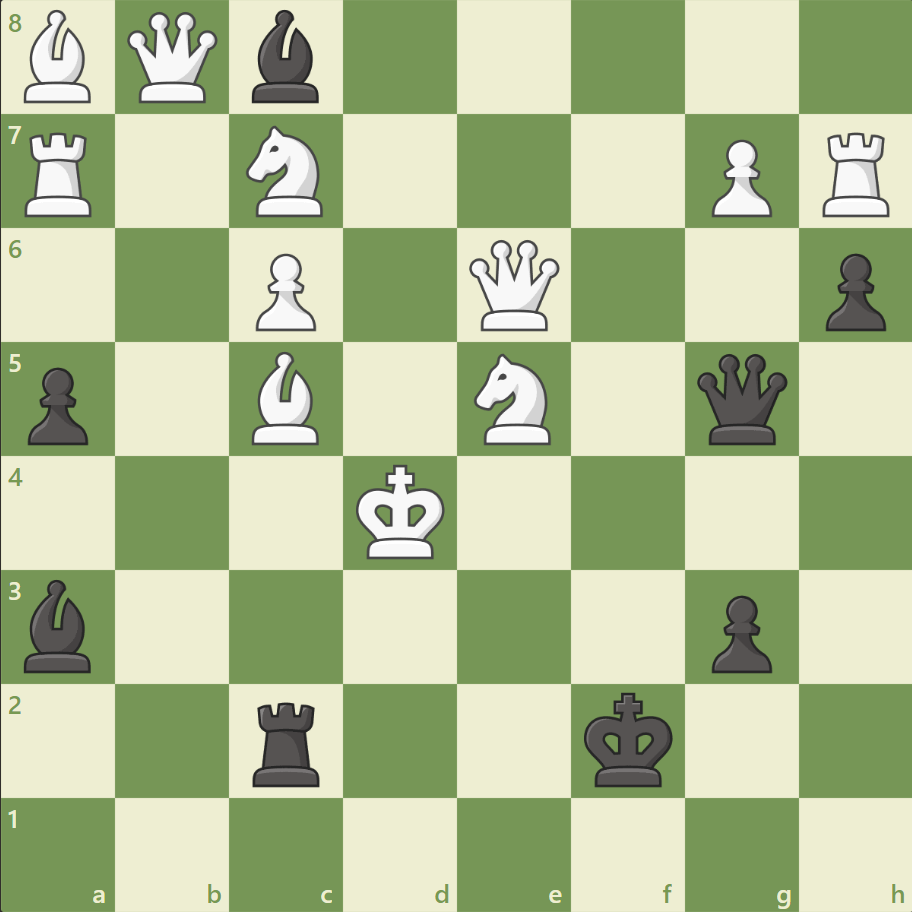B: (17, 6, 101, 109), (244, 347, 328, 449)
K: (351, 458, 451, 566)
N: (238, 121, 335, 223), (465, 348, 562, 450)
P: (701, 132, 776, 223), (247, 246, 322, 337)
Q: (124, 9, 223, 108), (464, 236, 563, 335)
R: (19, 125, 102, 222), (814, 125, 897, 222)
b: (244, 6, 328, 109), (17, 574, 101, 676)
k: (579, 685, 679, 793)
p: (20, 359, 95, 450), (701, 586, 776, 677), (815, 246, 889, 337)
q: (691, 349, 790, 449)
r: (246, 693, 329, 790)
